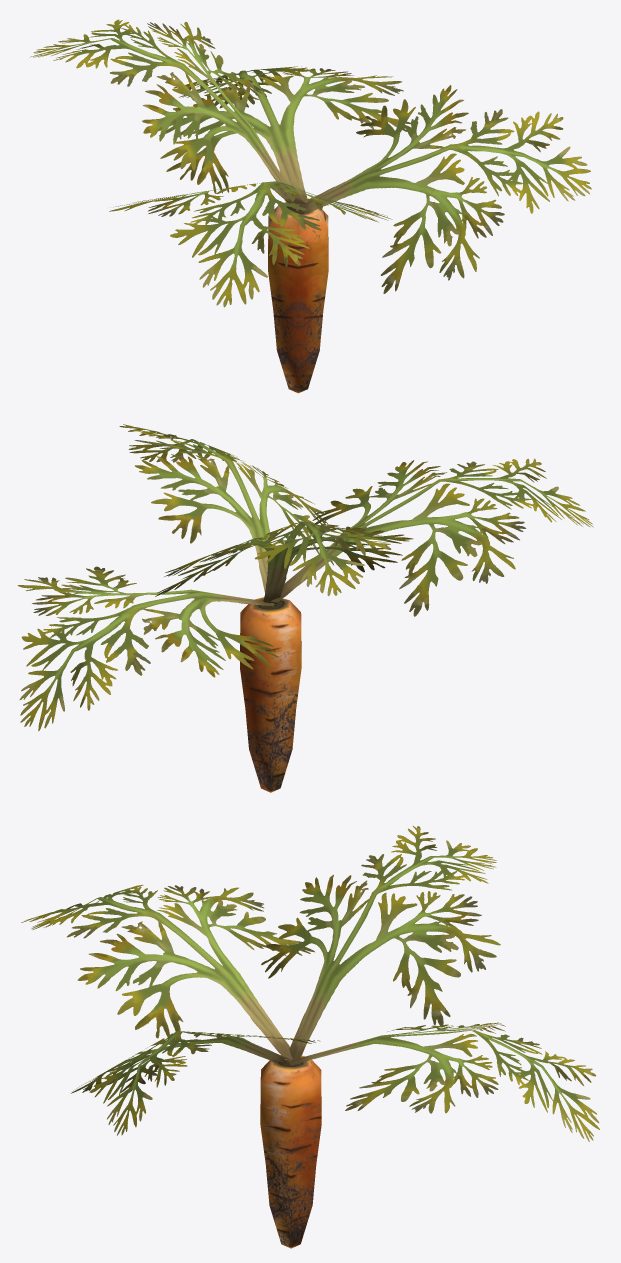
The model's file is plant_carrot_S4.fbx.
3 views of the same model, one above another, from view 1: azimuth 30°, elevation 25°; view 2: azimuth 150°, elevation 25°; view 3: azimuth 270°, elevation 25° (orthographic).
Parts seen in each view (by area): view 1: plant_carrot_S4; view 2: plant_carrot_S4; view 3: plant_carrot_S4.
Part boxes in pixels (x1,y1,x2,y2): plant_carrot_S4: [30, 19, 591, 393]; plant_carrot_S4: [17, 424, 593, 792]; plant_carrot_S4: [21, 826, 599, 1248].
Bounding box in the file's own units: 56.68 × 40.51 × 64.92.
